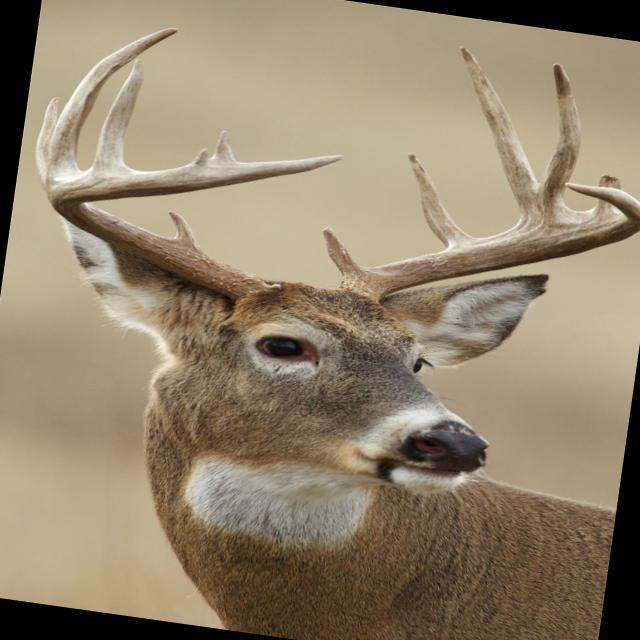E1: (192, 148, 209, 164)
L-E1: (213, 130, 237, 162)
L-F: (338, 182, 640, 302)
L-G1: (321, 226, 359, 278)
L-G2: (408, 152, 478, 249)
L-G3: (461, 45, 541, 215)
L-G4: (541, 63, 583, 207)
R-F: (45, 155, 343, 303)
R-G1: (166, 211, 202, 251)
R-G3: (45, 28, 179, 190)
R-G4: (92, 59, 143, 170)
